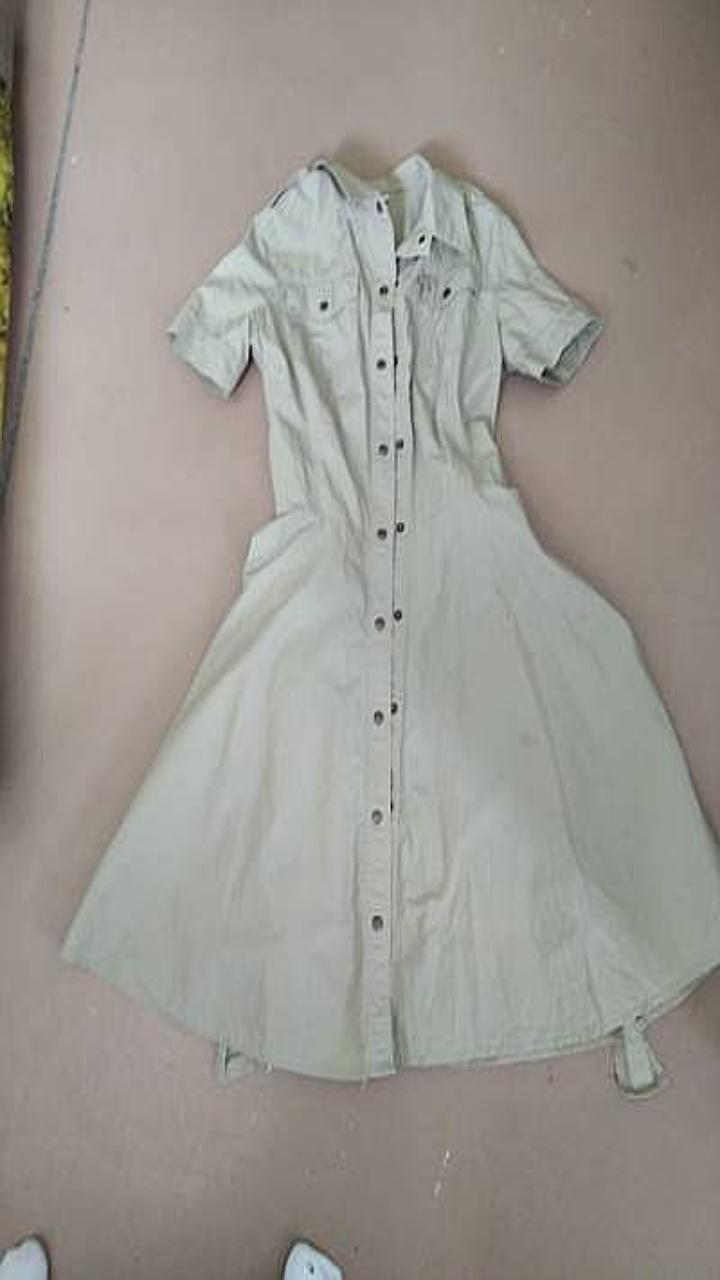Dresses: (62, 152, 719, 1094)
